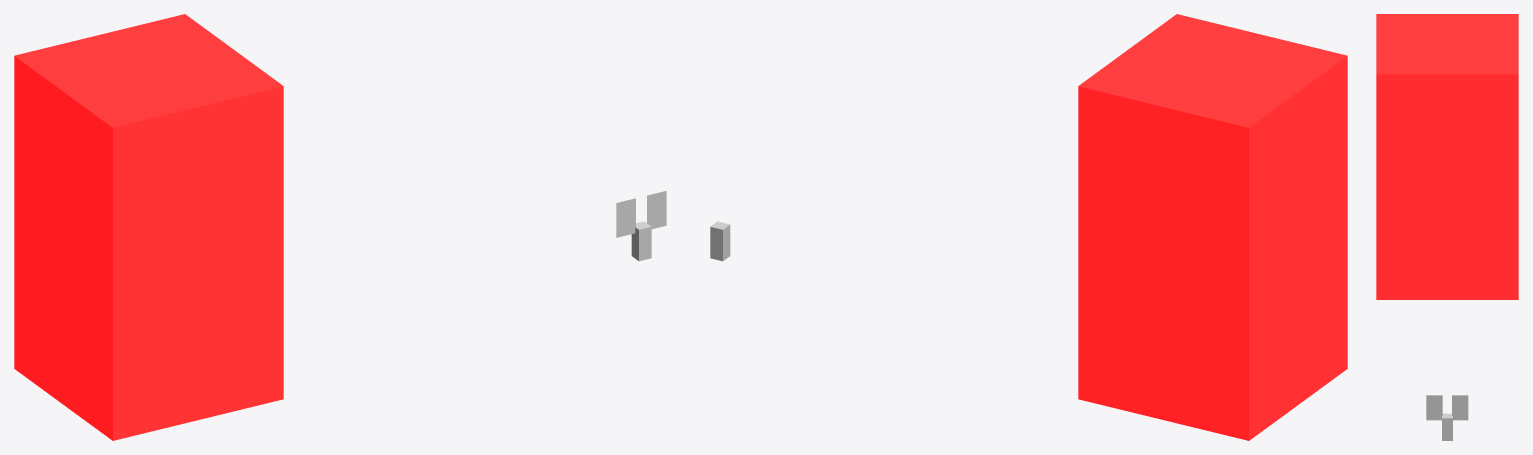
Rendered from gancho separado.glb.
The picture shows the model from 3 angles, left to right: view 1: azimuth 30°, elevation 25°; view 2: azimuth 150°, elevation 25°; view 3: azimuth 270°, elevation 25°; orthographic projection. The views are drawn at different scales.
Visible parts, largest first — view 1: Cube, Cube.001; view 2: Cube, Cube.001; view 3: Cube, Cube.001.
Part boxes in pixels (bbox=[...]): Cube: bbox=[14, 14, 283, 440]; Cube.001: bbox=[616, 191, 666, 261]; Cube: bbox=[1078, 14, 1347, 440]; Cube.001: bbox=[710, 221, 730, 261]; Cube: bbox=[1376, 14, 1518, 299]; Cube.001: bbox=[1426, 395, 1468, 440].
Bounding box in the file's own units: 3.53 × 1.75 × 1.
